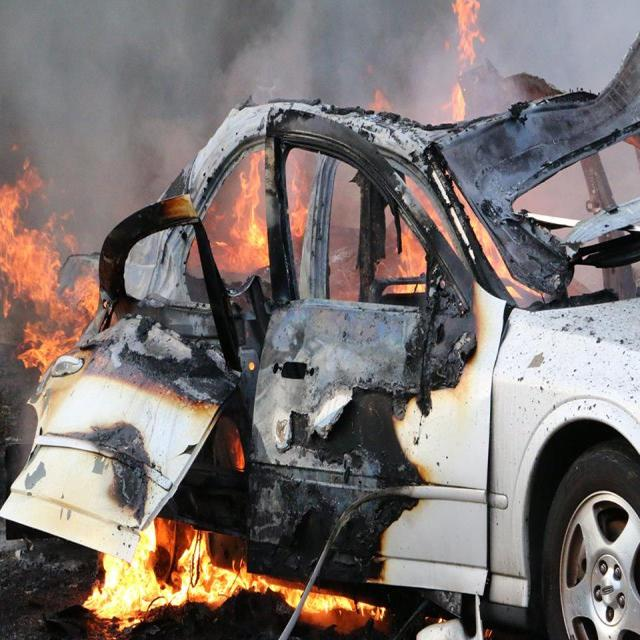fire: (2, 175, 96, 371), (226, 149, 271, 268), (446, 3, 482, 119)
